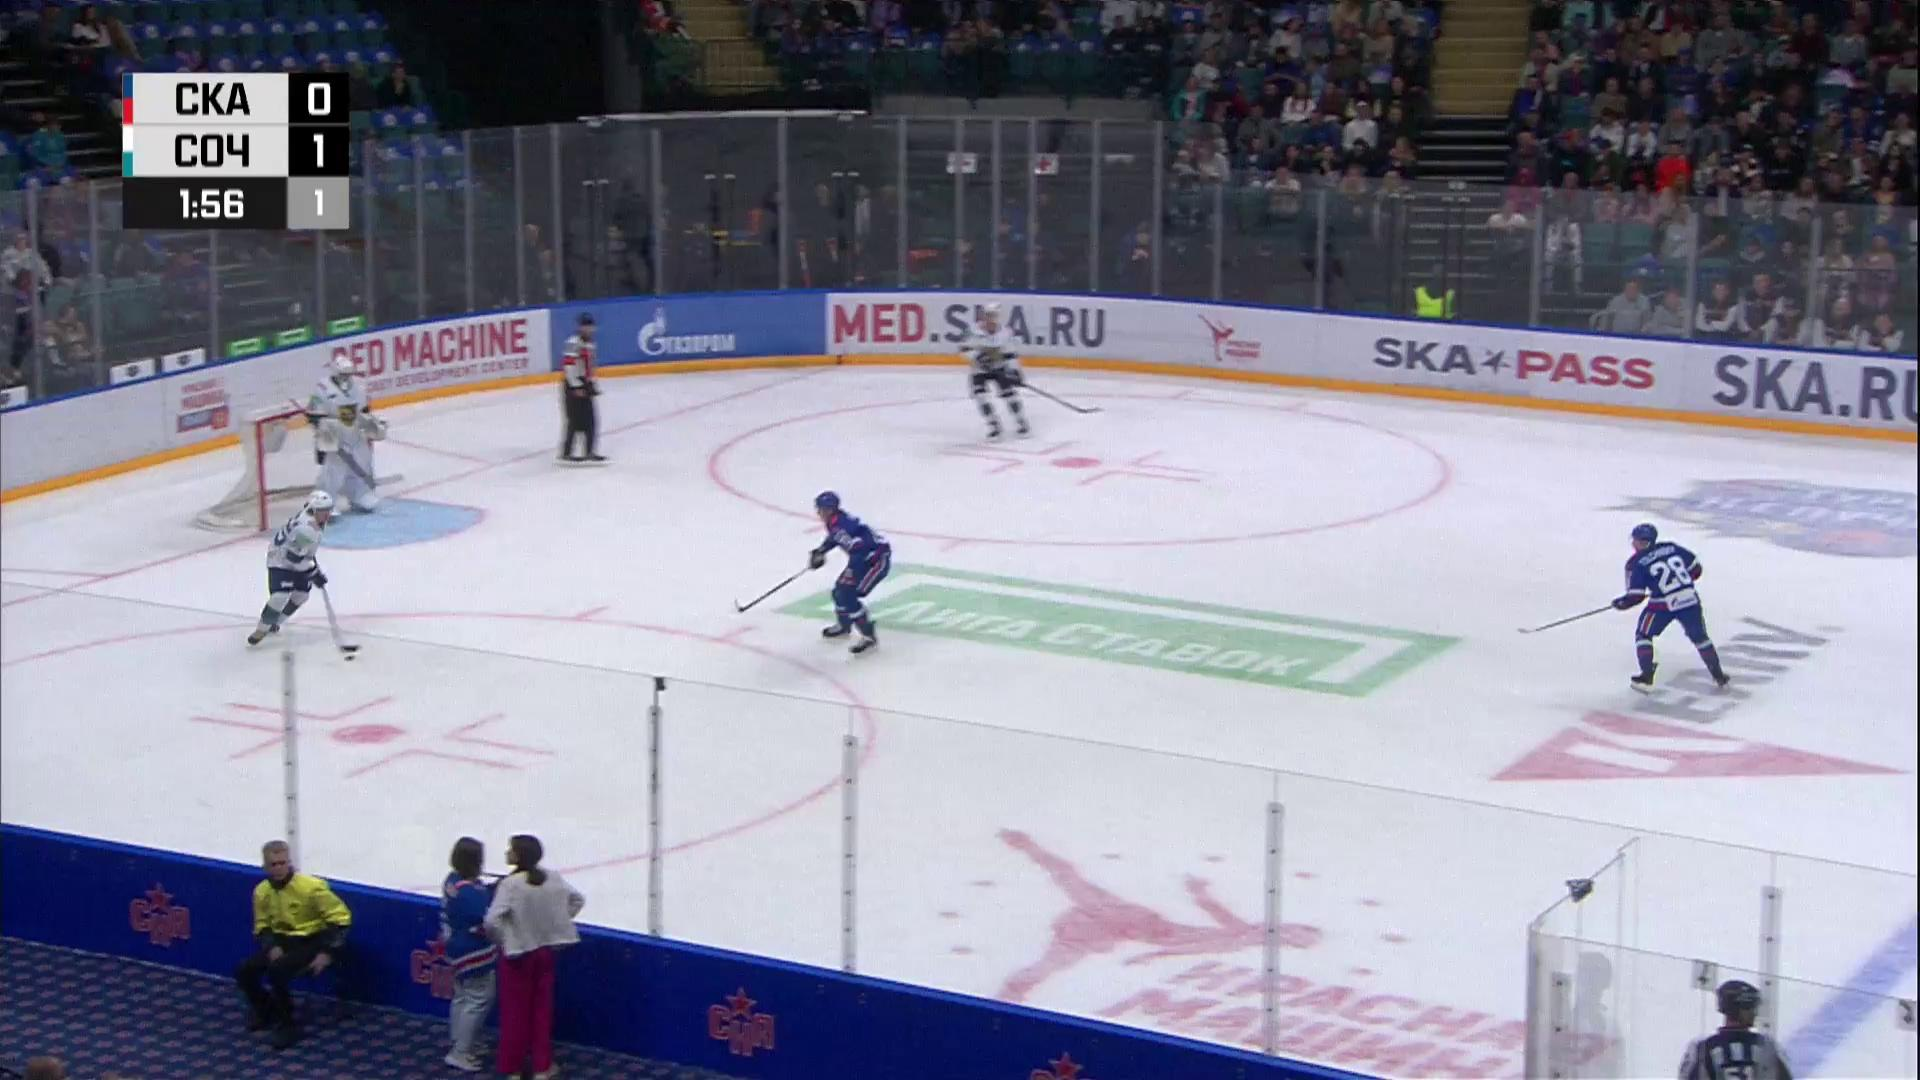ball: (344, 655, 356, 662)
